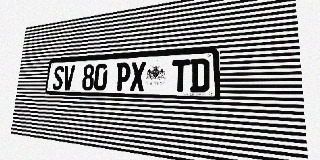0: (93, 63, 108, 91)
8: (81, 64, 95, 90)
D: (190, 58, 210, 92)
P: (115, 62, 131, 91)
S: (52, 66, 64, 90)
T: (171, 59, 190, 92)
V: (62, 65, 75, 90)
X: (130, 61, 146, 91)
